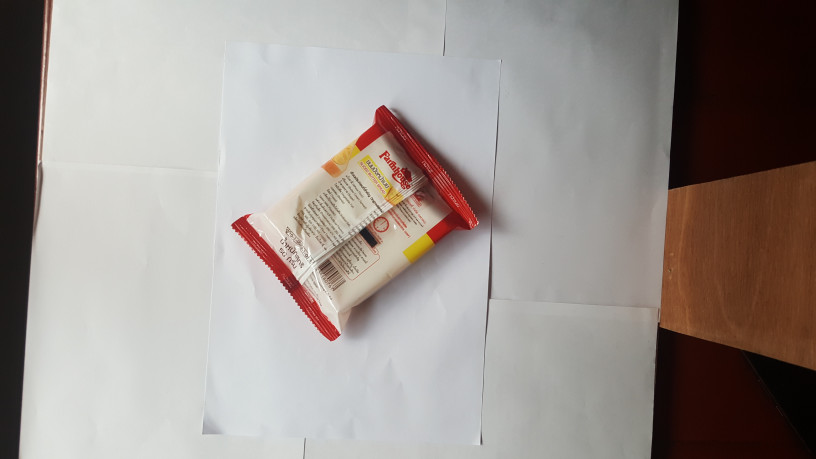farmhouse-bread-butter: (224, 99, 478, 353)
